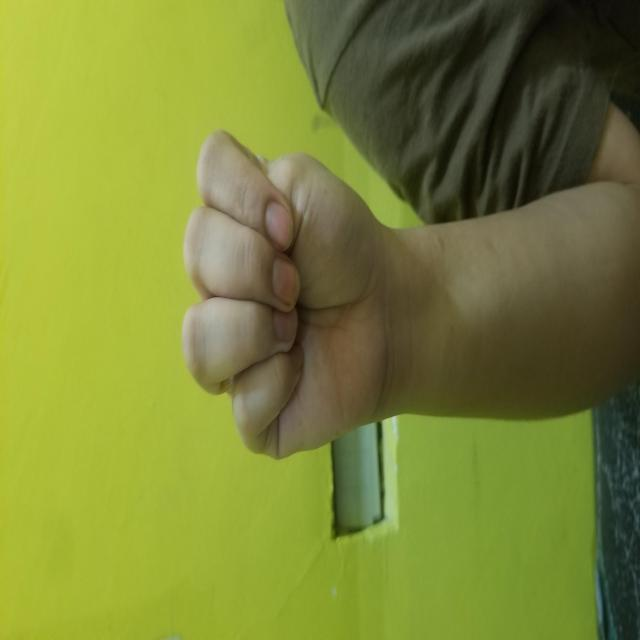M: (182, 177, 515, 381)
